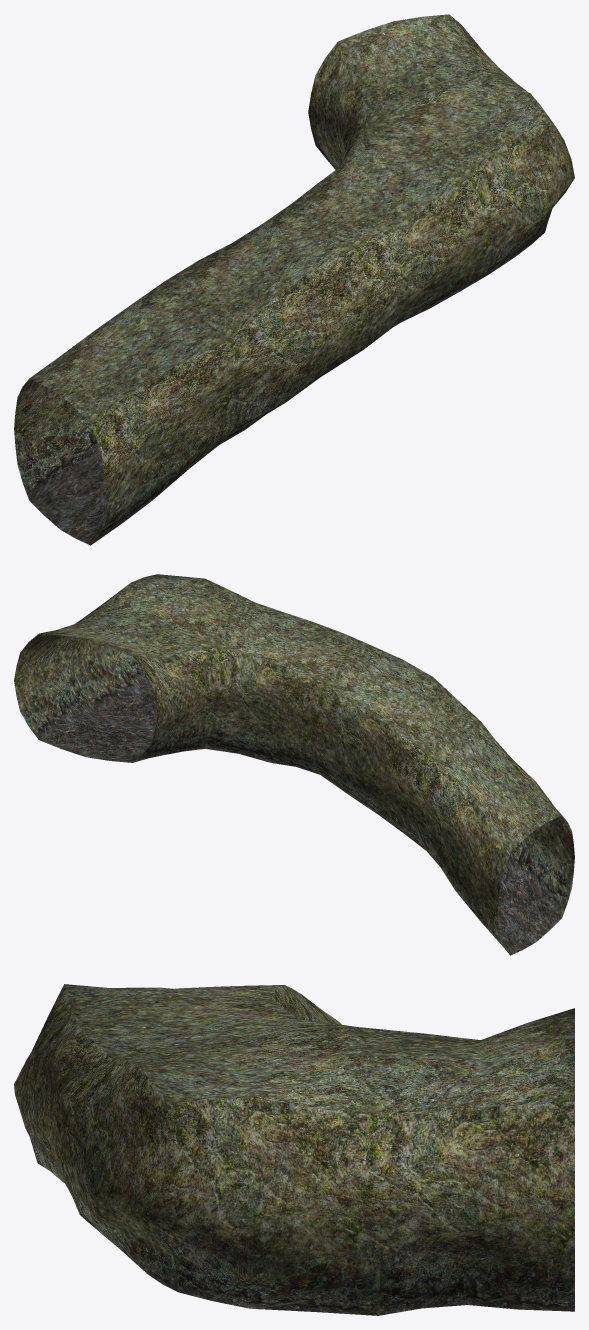
Rendered from thm_all_cave_s03_damprock_r17_r17.fbx.
The picture shows the model from 3 angles, top to bottom: view 1: azimuth 30°, elevation 25°; view 2: azimuth 150°, elevation 25°; view 3: azimuth 270°, elevation 25°; orthographic projection. The views are drawn at different scales.
Parts seen in each view (by area): view 1: mesh_node; view 2: mesh_node; view 3: mesh_node.
Part boxes in pixels (x1,y1,x2,y2): mesh_node: (14, 14, 574, 545); mesh_node: (14, 574, 574, 955); mesh_node: (14, 984, 574, 1315).
Size of the model in its own units: 32.95 by 19.86 by 18.36.
